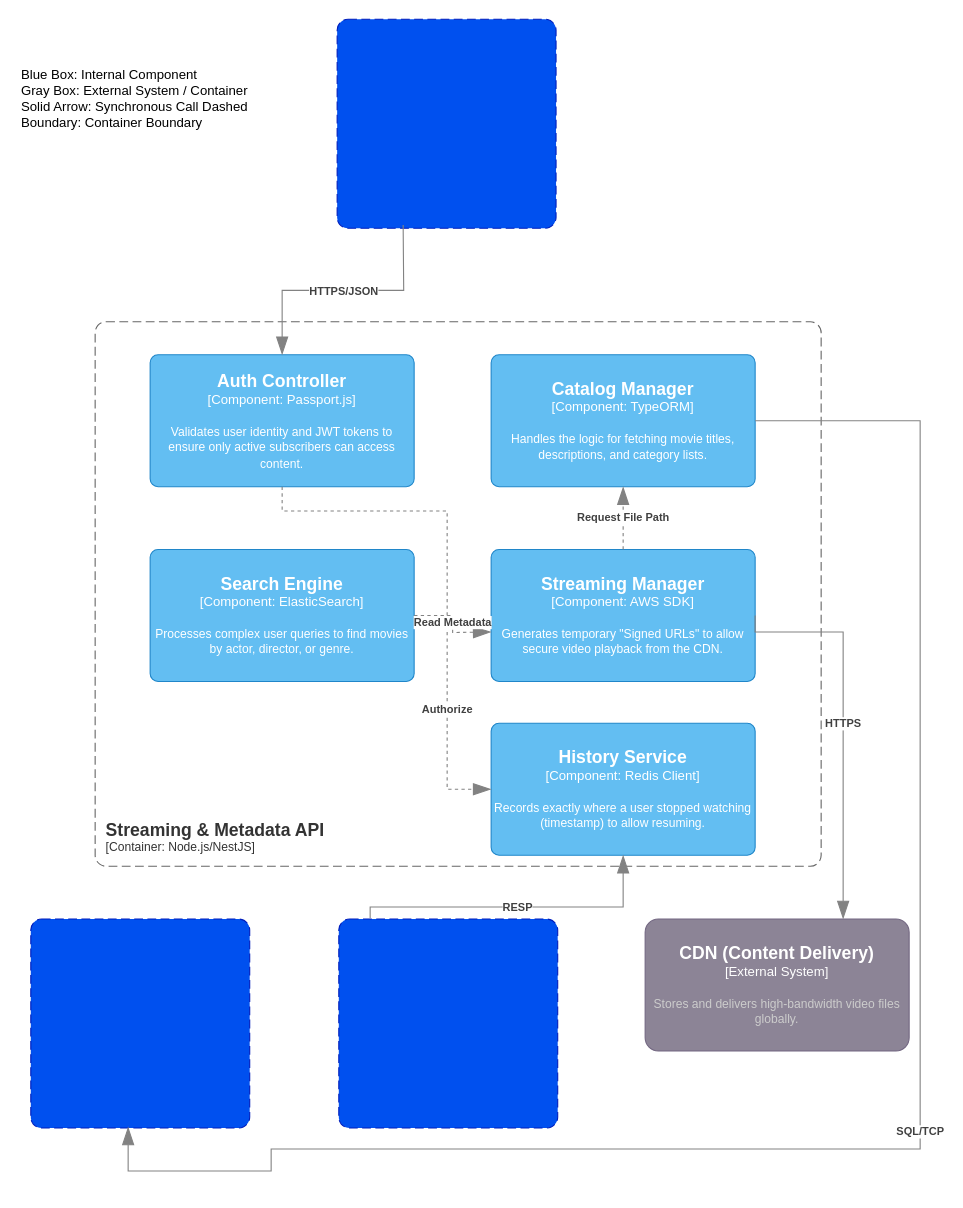
This 963x1208 diagram has some shape labels left out. Here are the shapes that lost their labels. From the top down, the centre of each, then its label:
At (446,123): "API Gateway [Kong]".
At (140,1023): "Metadata Database [PortgreSQL]".
At (448,1023): "Playback Cache [Radis]".
